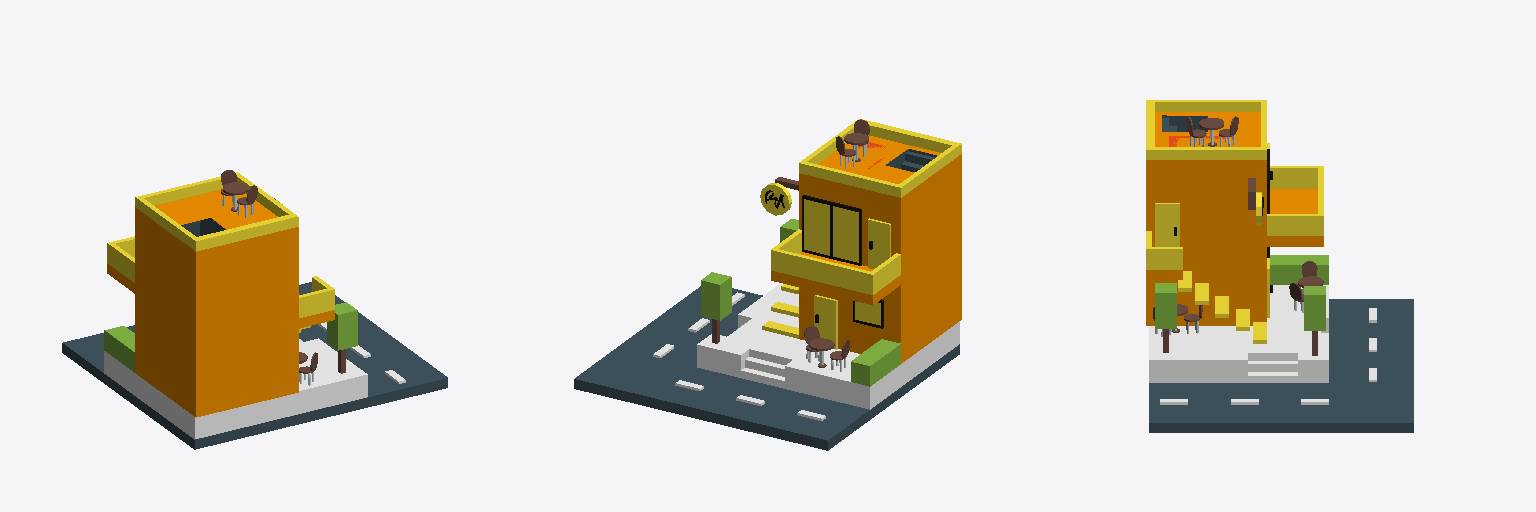
Rendered from coffee_shop.obj.
The picture shows the model from 3 angles: view 1: azimuth 30°, elevation 25°; view 2: azimuth 150°, elevation 25°; view 3: azimuth 270°, elevation 25°; orthographic projection.
Parts seen in each view (by area): view 1: group[number redacted], group[number redacted], group[number redacted], group[number redacted], group[number redacted], group[number redacted], group[number redacted], group[number redacted]; view 2: group[number redacted], group[number redacted], group[number redacted], group[number redacted], group[number redacted], group[number redacted], group[number redacted], group[number redacted], group[number redacted], group[number redacted], group[number redacted], group[number redacted] (+5 smaller); view 3: group[number redacted], group[number redacted], group[number redacted], group[number redacted], group[number redacted], group[number redacted], group[number redacted], group[number redacted], group[number redacted], group[number redacted], group[number redacted], group[number redacted] (+4 smaller).
Boxes of the visible parts, x1=… form: group[number redacted]: x1=135, y1=172, x2=298, y2=417; group[number redacted]: x1=62, y1=282, x2=447, y2=449; group[number redacted]: x1=117, y1=346, x2=345, y2=439; group[number redacted]: x1=299, y1=338, x2=367, y2=402; group[number redacted]: x1=327, y1=302, x2=357, y2=350; group[number redacted]: x1=104, y1=326, x2=134, y2=372; group[number redacted]: x1=299, y1=287, x2=334, y2=317; group[number redacted]: x1=107, y1=242, x2=134, y2=282; group[number redacted]: x1=799, y1=119, x2=961, y2=363; group[number redacted]: x1=574, y1=286, x2=959, y2=450; group[number redacted]: x1=732, y1=294, x2=959, y2=399; group[number redacted]: x1=785, y1=357, x2=882, y2=409; group[number redacted]: x1=775, y1=249, x2=869, y2=293; group[number redacted]: x1=831, y1=202, x2=861, y2=265; group[number redacted]: x1=802, y1=195, x2=831, y2=258; group[number redacted]: x1=697, y1=334, x2=752, y2=377; group[number redacted]: x1=851, y1=339, x2=900, y2=386; group[number redacted]: x1=771, y1=252, x2=900, y2=304; group[number redacted]: x1=701, y1=272, x2=731, y2=320; group[number redacted]: x1=868, y1=218, x2=890, y2=268; group[number redacted]: x1=1146, y1=100, x2=1266, y2=325; group[number redacted]: x1=1149, y1=299, x2=1413, y2=432; group[number redacted]: x1=1149, y1=285, x2=1303, y2=349; group[number redacted]: x1=1149, y1=350, x2=1247, y2=382; group[number redacted]: x1=1267, y1=189, x2=1323, y2=246; group[number redacted]: x1=1270, y1=255, x2=1328, y2=284; group[number redacted]: x1=1267, y1=214, x2=1323, y2=235; group[number redacted]: x1=1298, y1=339, x2=1328, y2=382; group[number redacted]: x1=1270, y1=166, x2=1323, y2=188; group[number redacted]: x1=1155, y1=203, x2=1179, y2=246; group[number redacted]: x1=1155, y1=283, x2=1176, y2=328; group[number redacted]: x1=1304, y1=286, x2=1325, y2=330.
Bounding box in the file's own units: 1.04 × 0.9005 × 0.95.